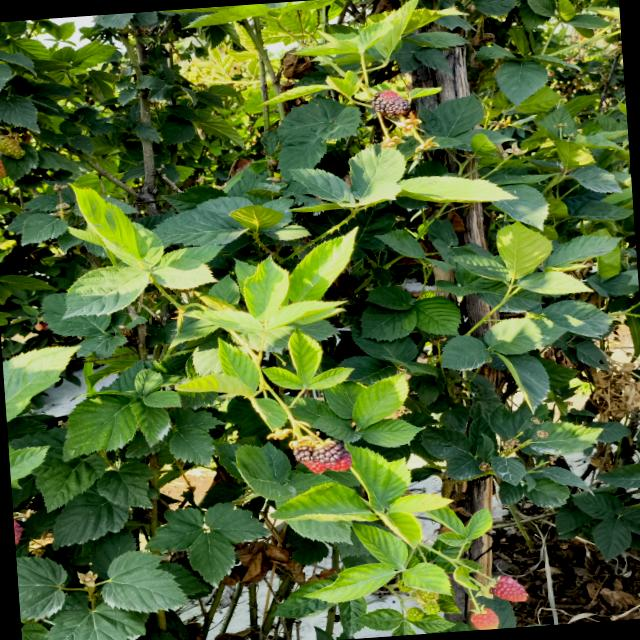marron: (313, 439, 352, 470), (370, 90, 410, 115)
naranja: (490, 575, 527, 601), (470, 607, 499, 630), (0, 159, 7, 178)
verde: (0, 135, 25, 158), (415, 589, 439, 602), (406, 607, 425, 621), (424, 601, 440, 614)
